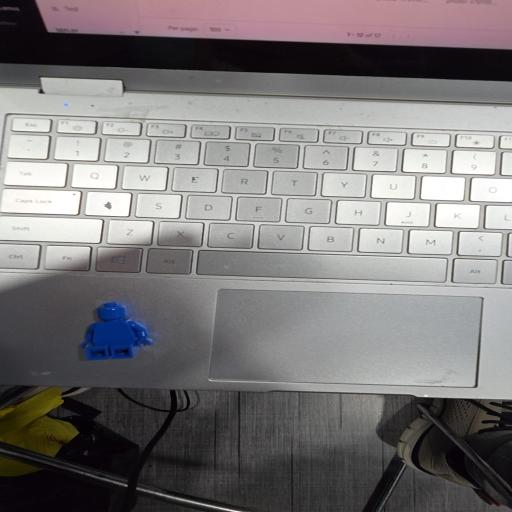Blue: (81, 302, 152, 360)
